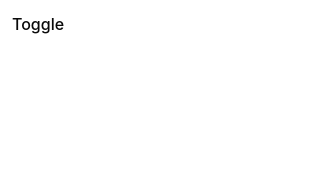
Scenario: Collapsible Component › should toggle content on trigger click
Step 1. Click the button "Toggle" → (38, 24), box [12, 12, 64, 36]
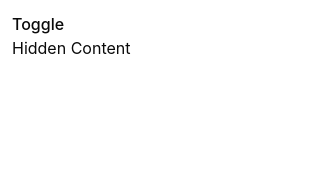
Check: the text "Hidden Content" is shown, box [12, 38, 130, 58]
